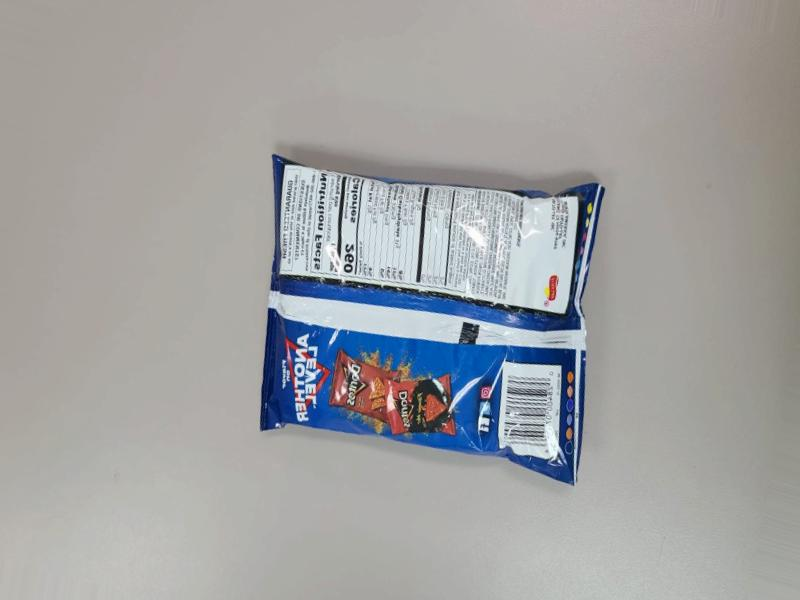doritos: (265, 155, 622, 507)
